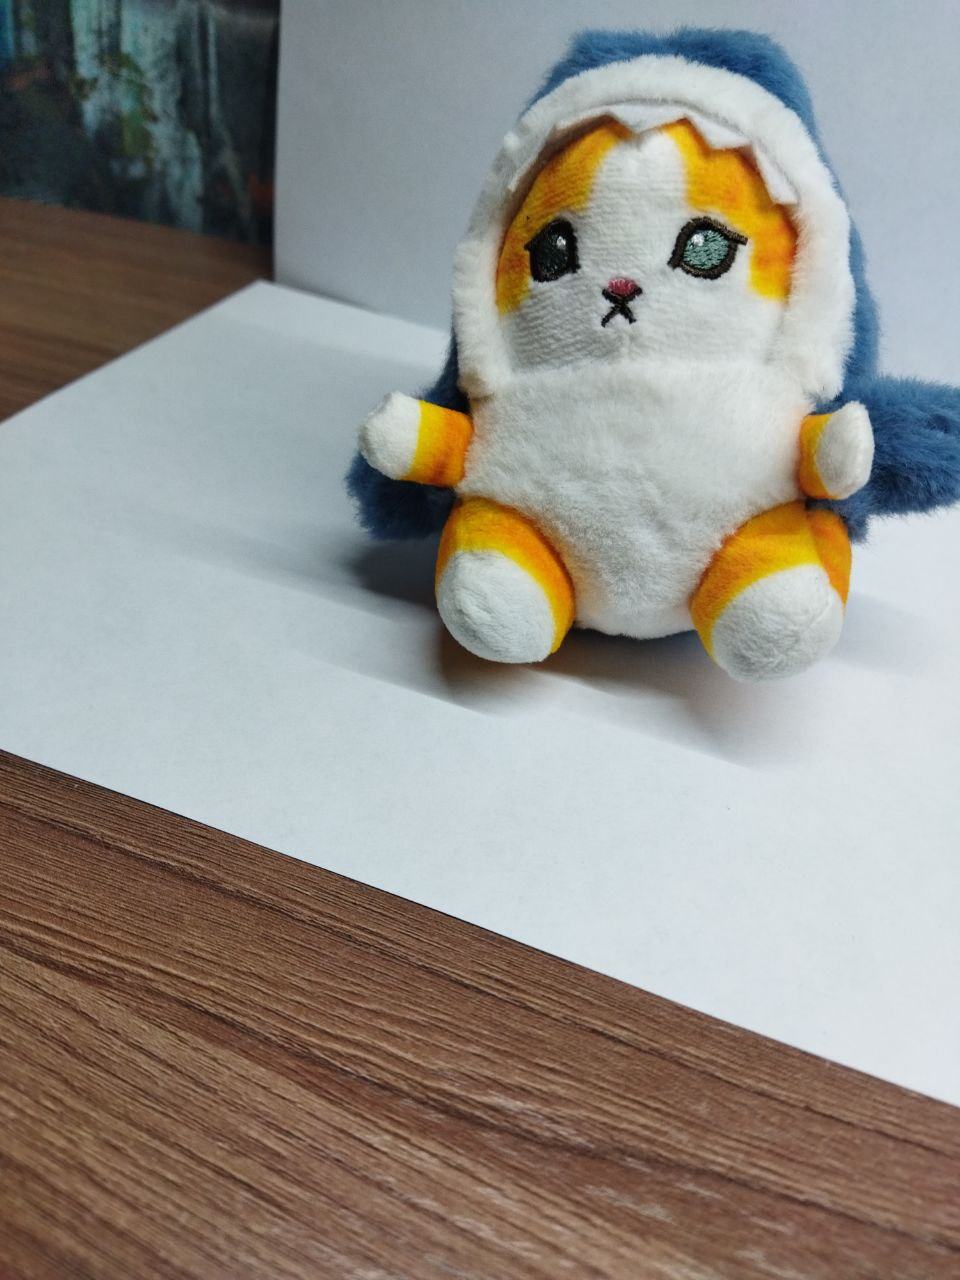Snark Cat: (345, 25, 960, 669)
